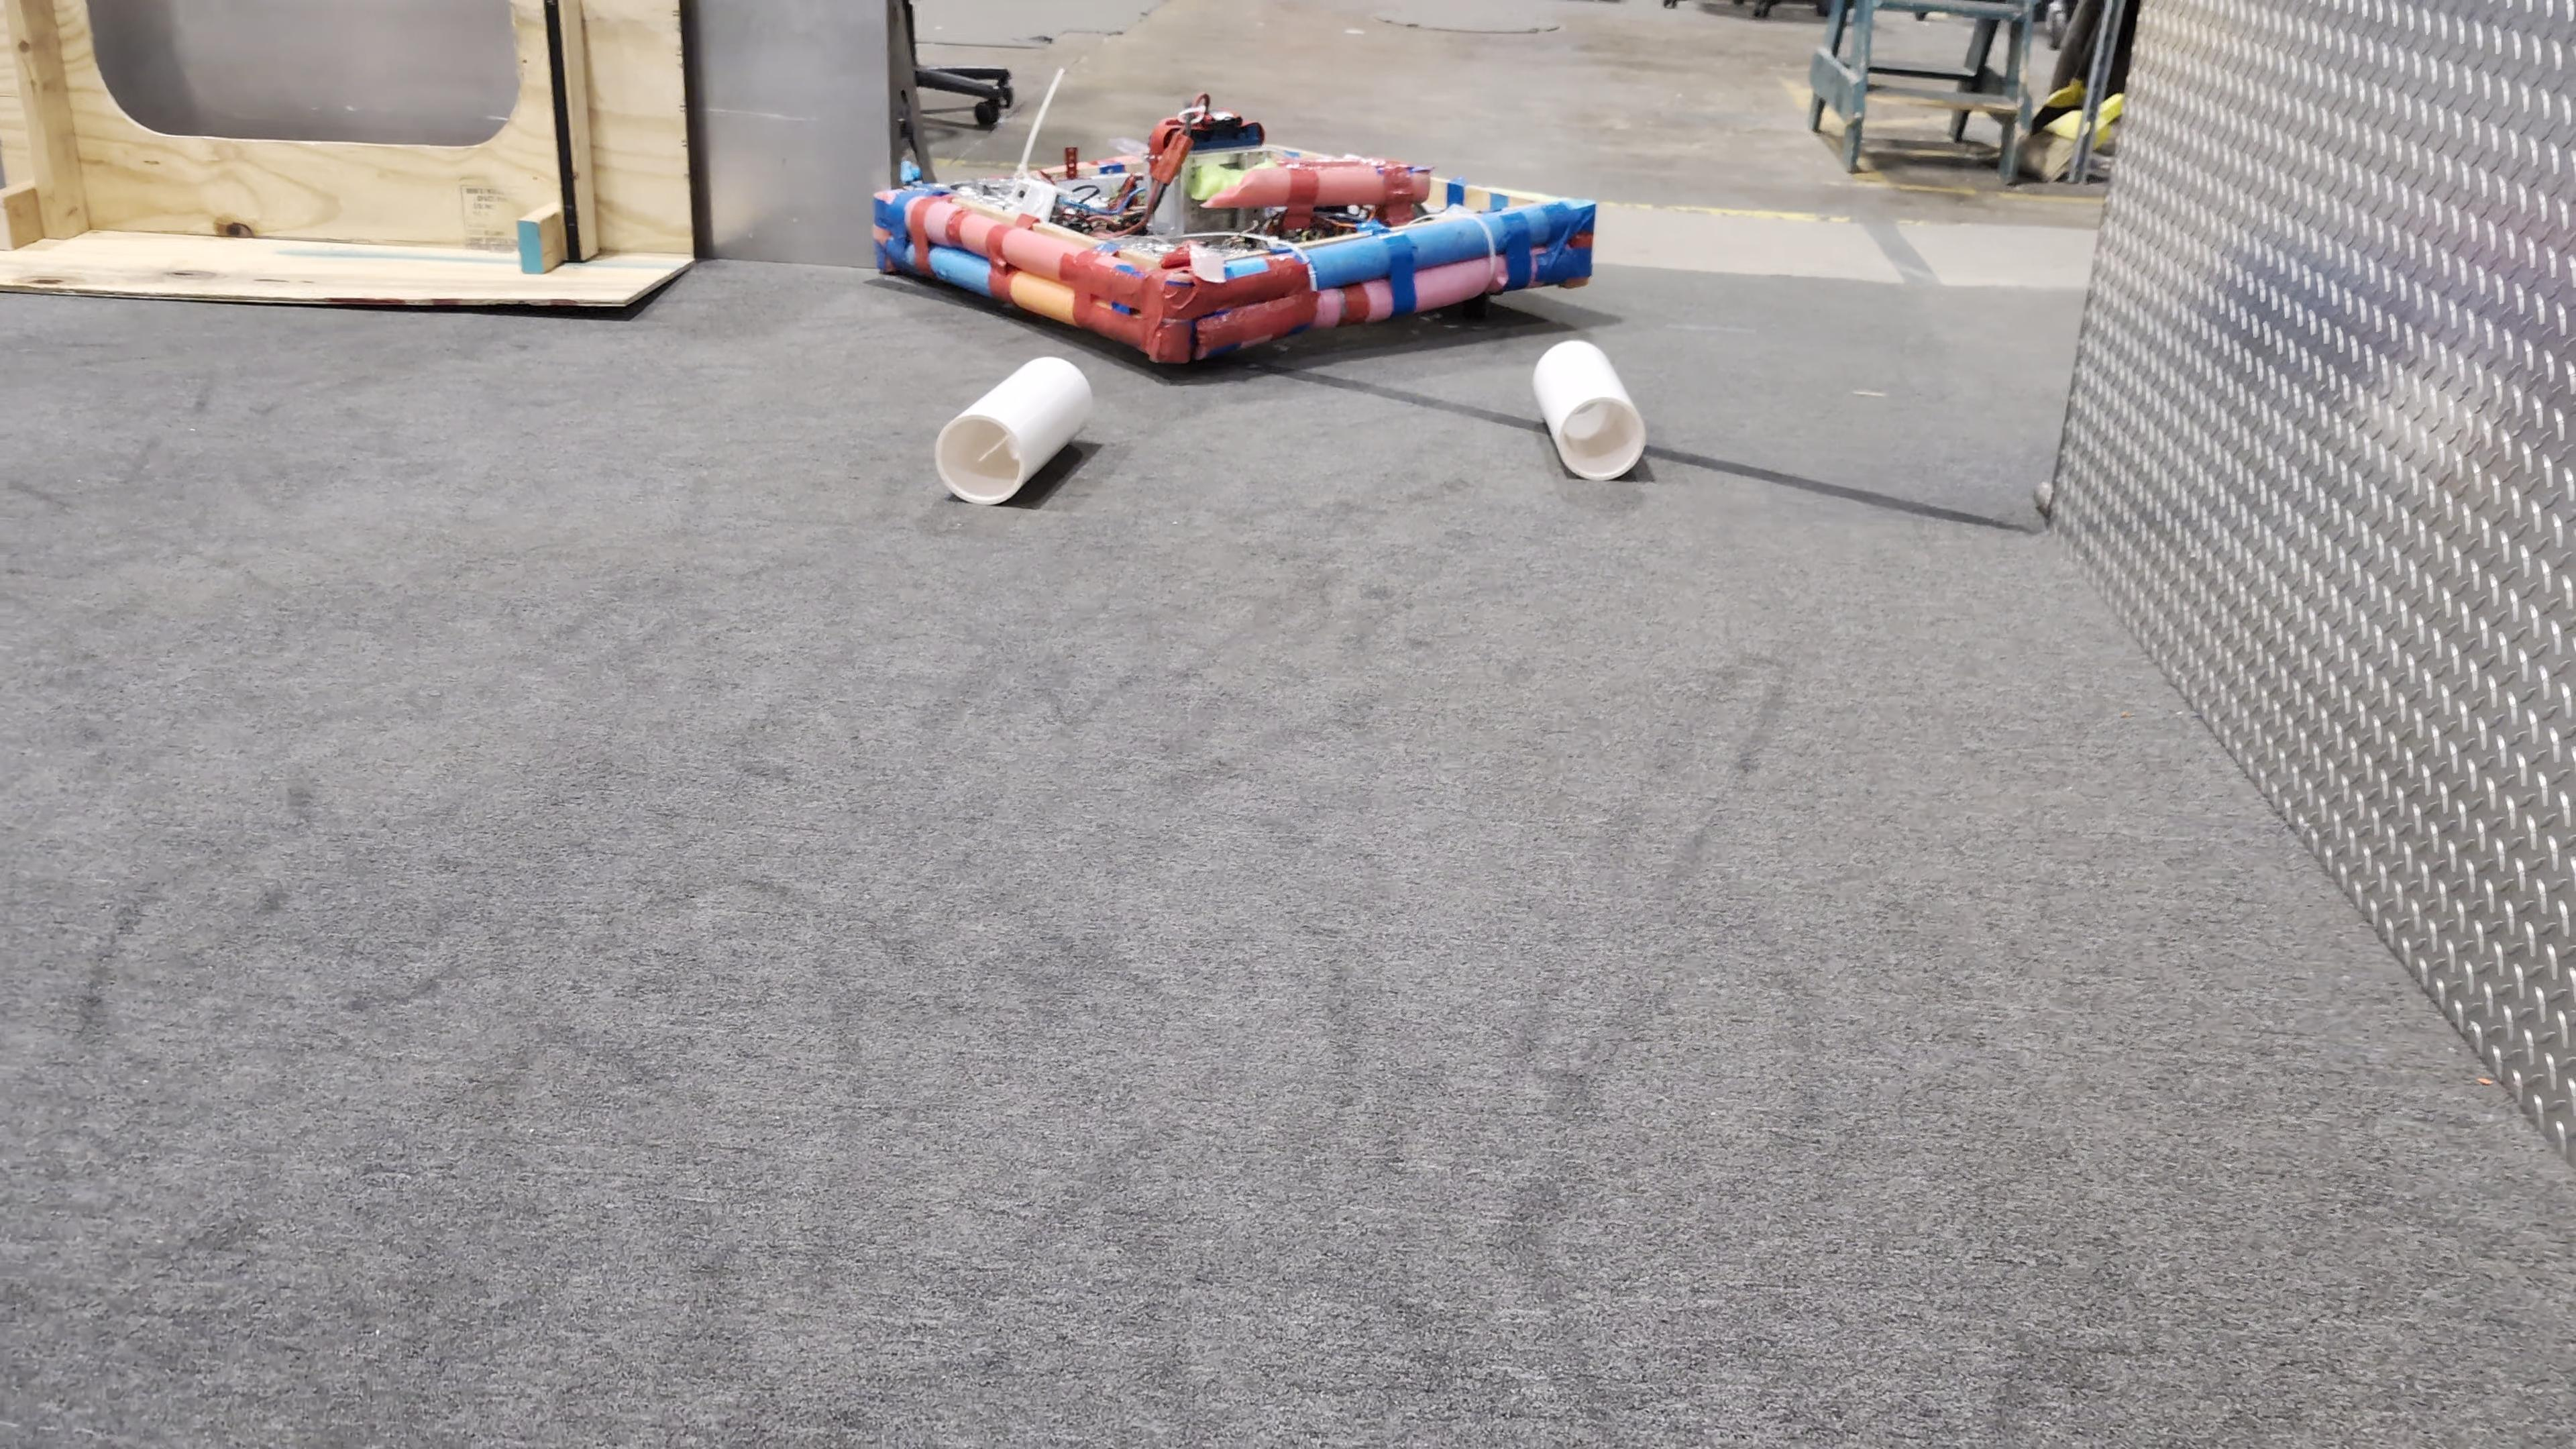coral: (931, 352, 1095, 502), (1536, 334, 1649, 479)
